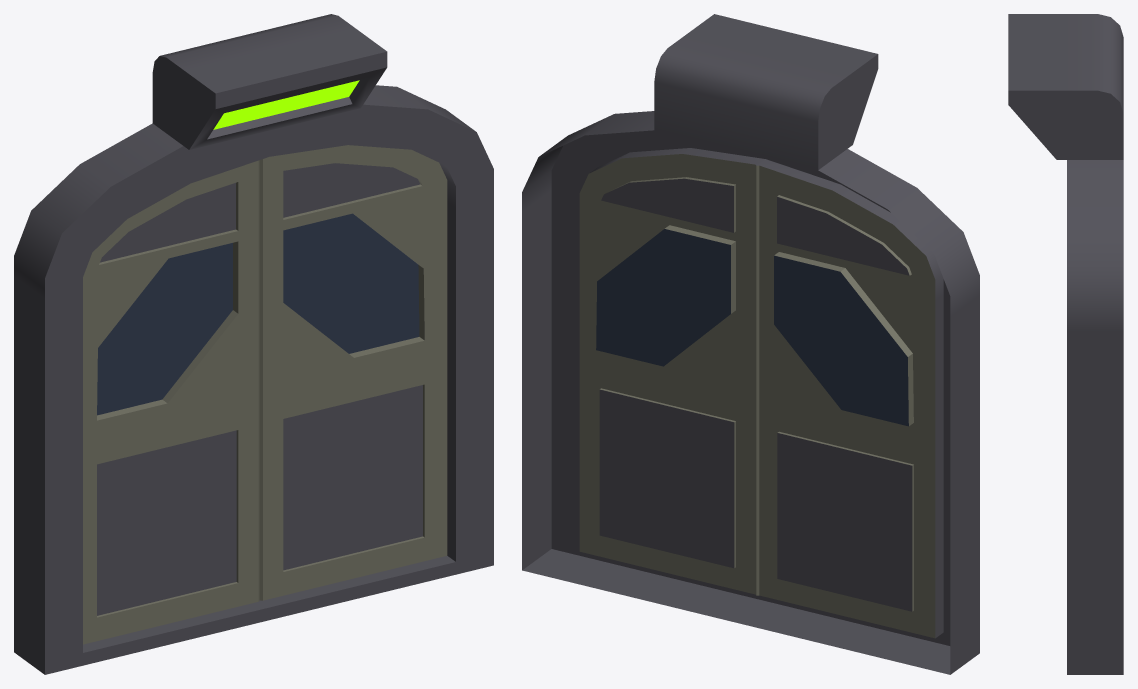
File: LPSciFi_Door.fbx
3 renders of one model, left to right at view 1: azimuth 30°, elevation 25°; view 2: azimuth 150°, elevation 25°; view 3: azimuth 270°, elevation 25°, orthographic. The views are drawn at different scales.
Parts seen in each view (by area): view 1: Door; view 2: Door; view 3: Door.
Boxes of the visible parts, <box> form: Door: <box>14,14,493,674</box>; Door: <box>522,14,979,674</box>; Door: <box>1008,14,1123,674</box>.
Size of the model in its own units: 262 by 319 by 63.61.
